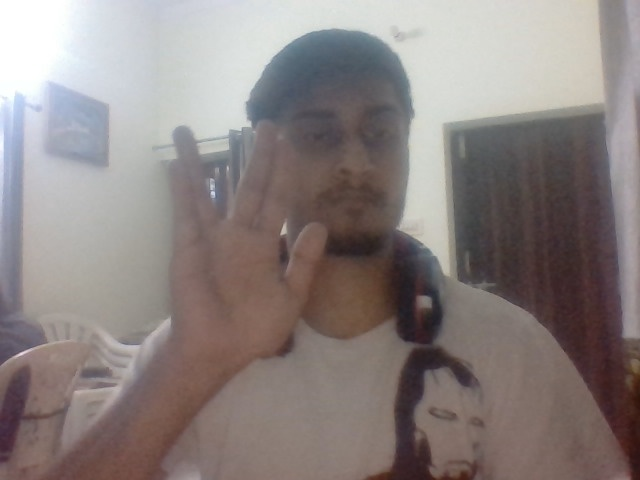LiveLong: (166, 118, 328, 354)
